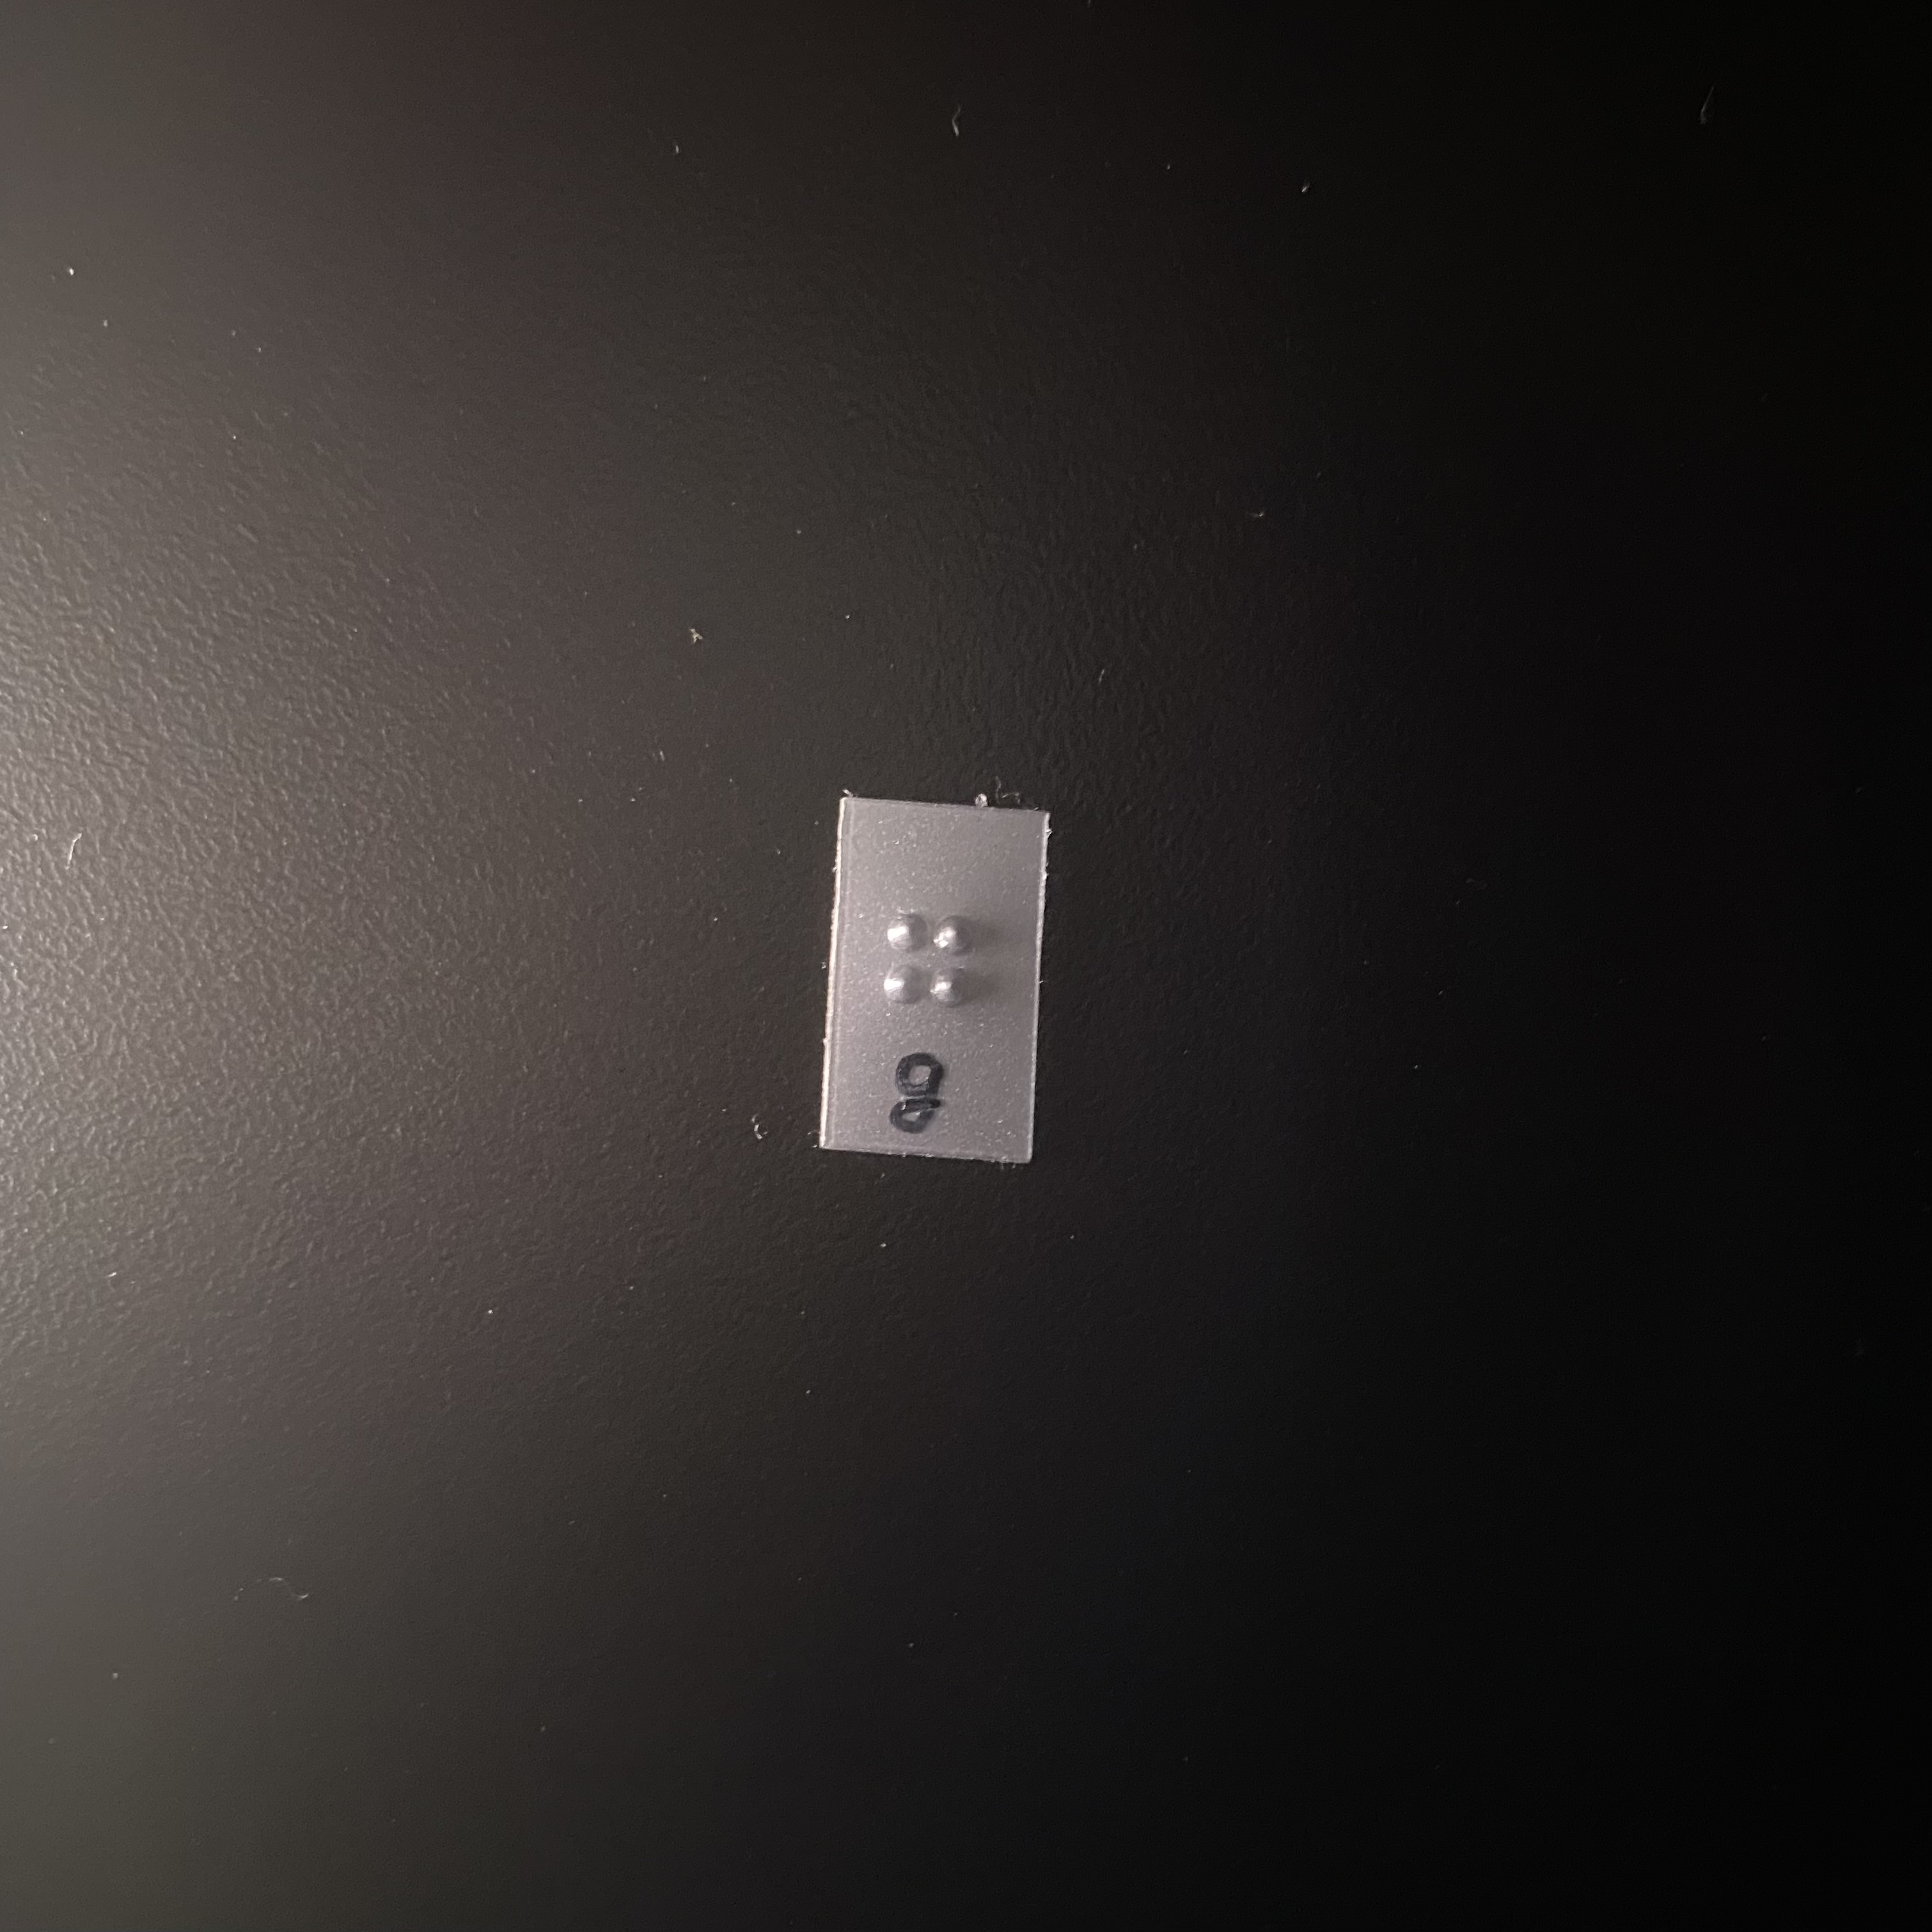g: (868, 894, 992, 1079)
